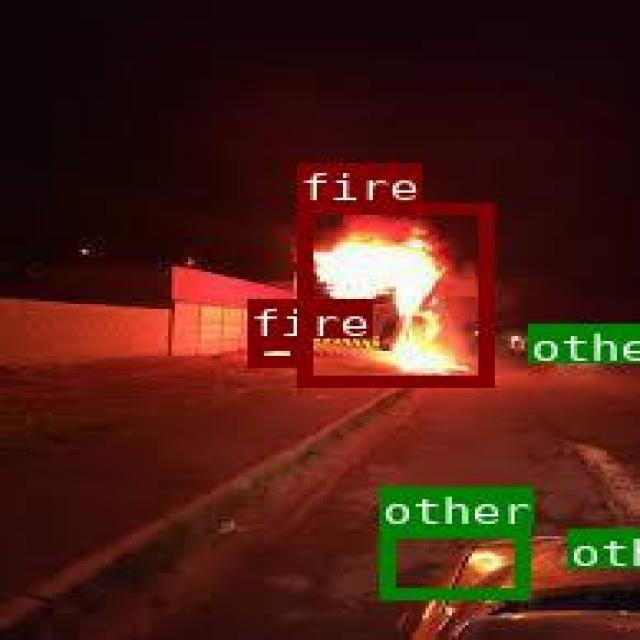fire: (297, 202, 490, 384), (245, 337, 301, 364)
